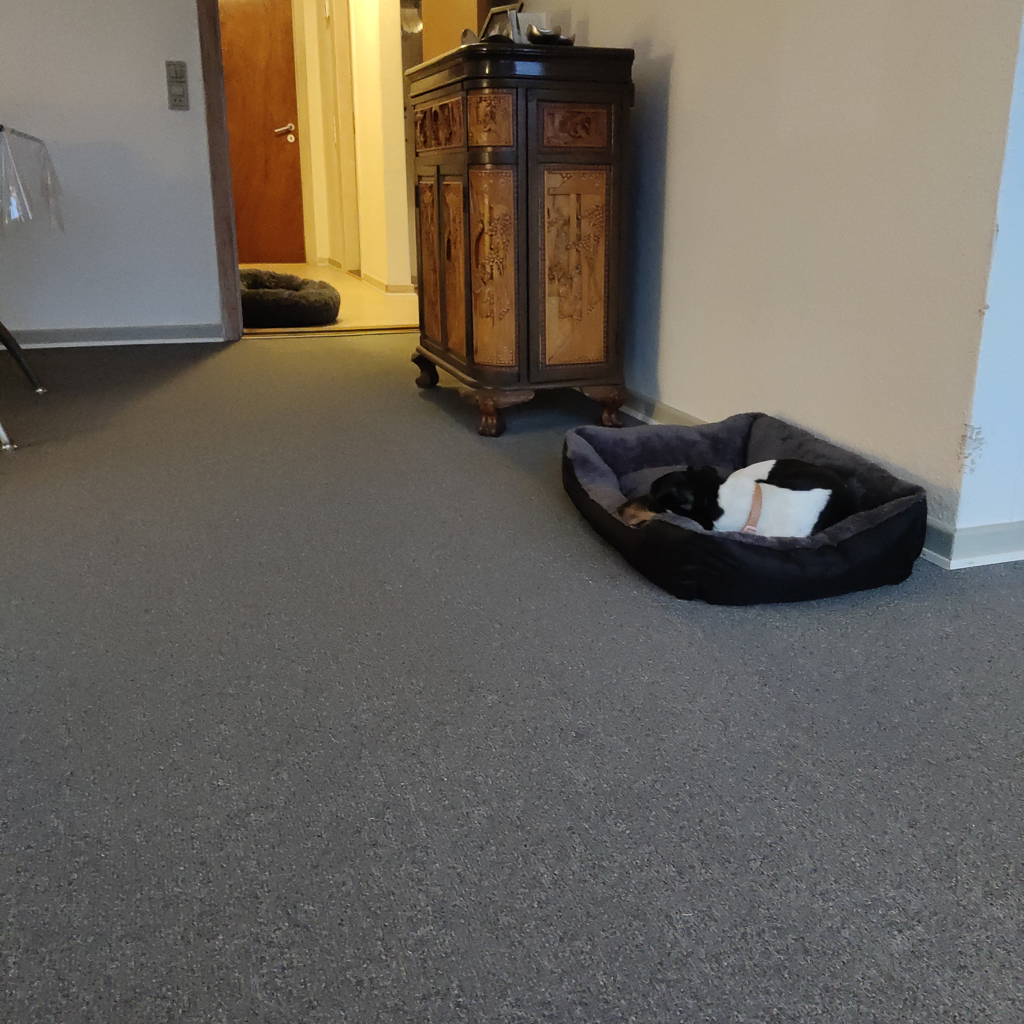Dog: (589, 437, 903, 572)
